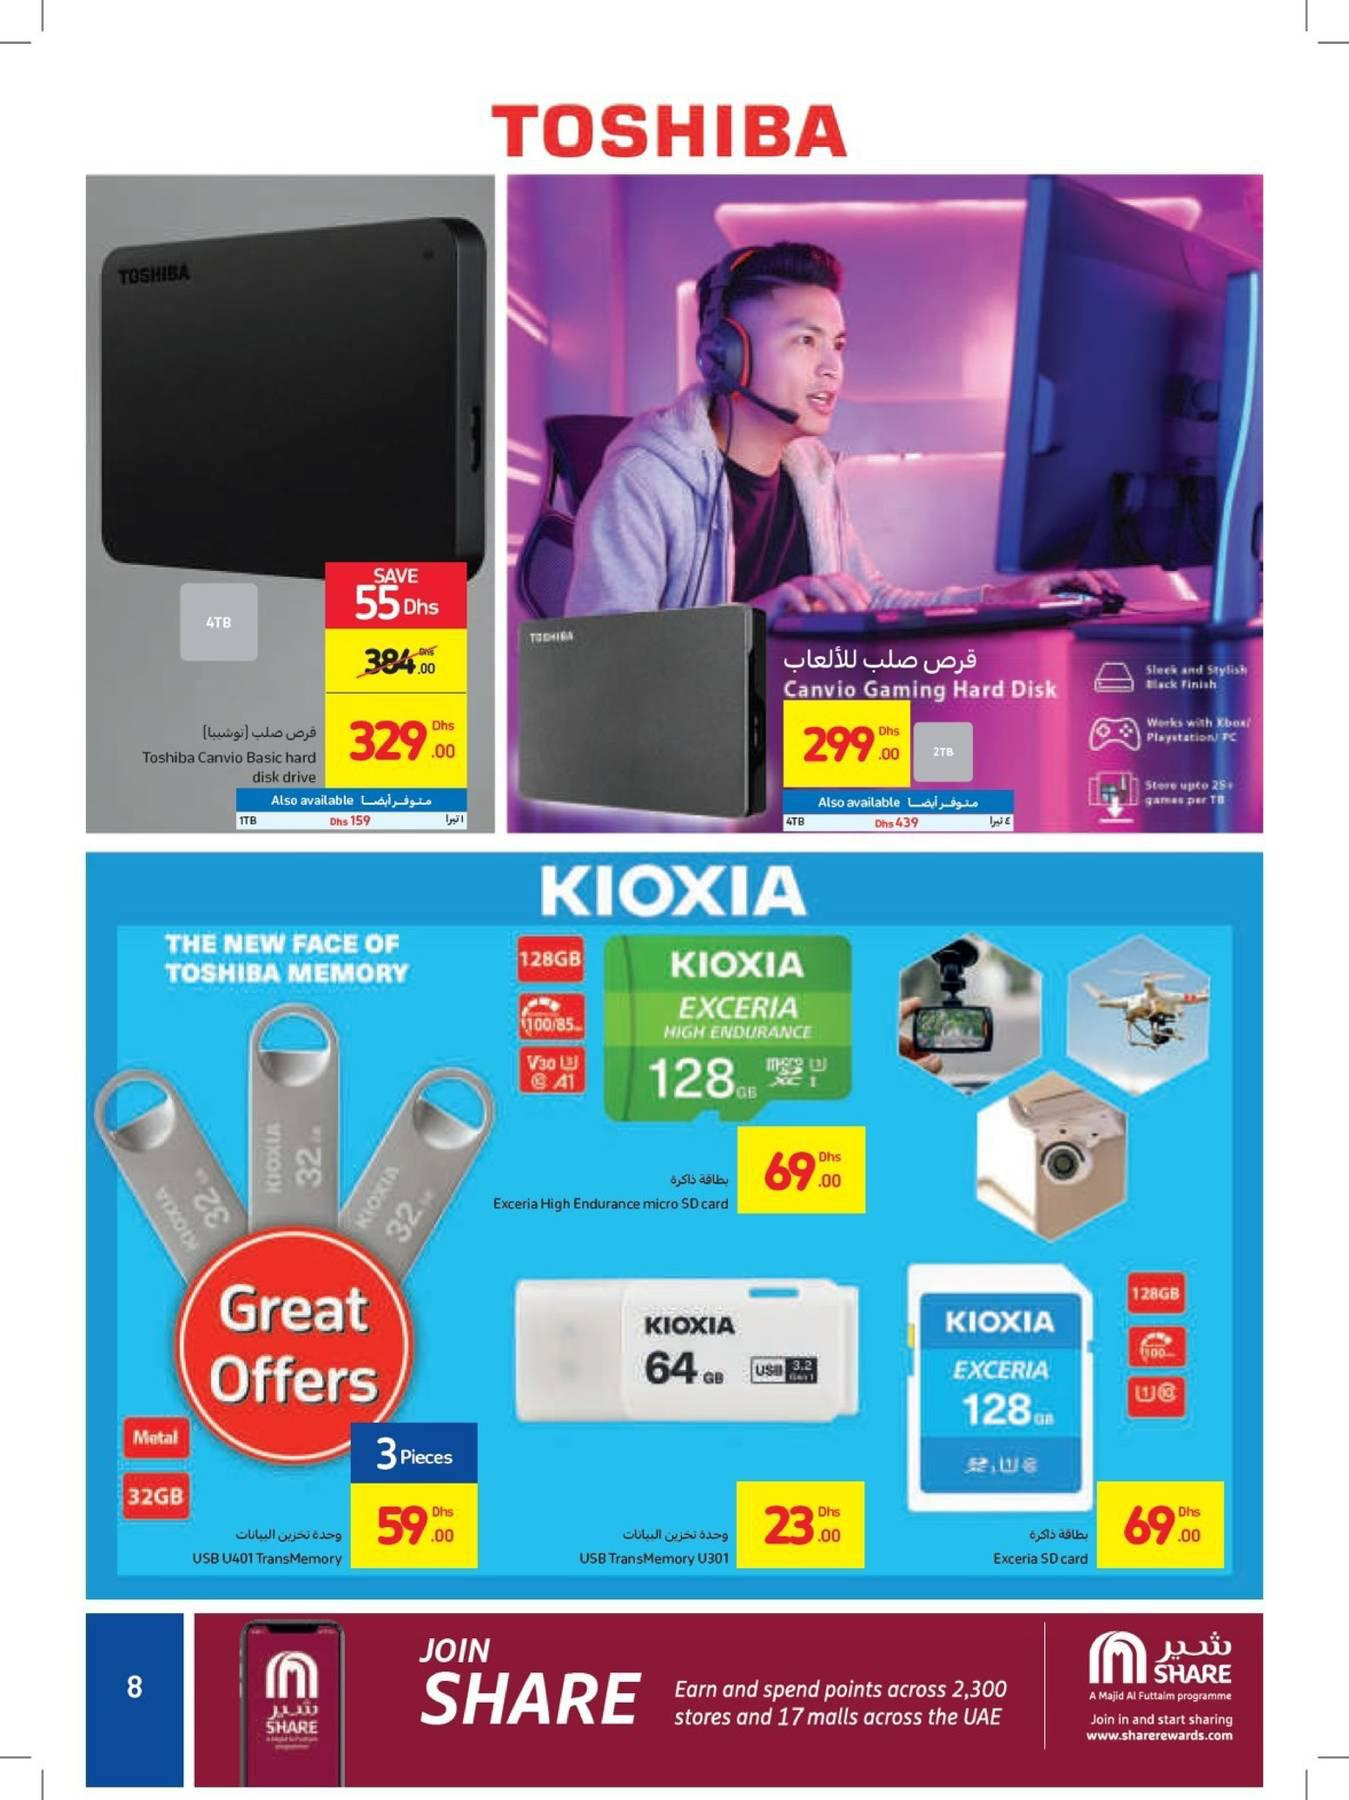text: (777, 643, 1063, 704), (487, 1164, 735, 1217), (140, 720, 324, 787), (183, 1522, 349, 1576), (572, 1522, 735, 1570), (983, 1522, 1095, 1572)
